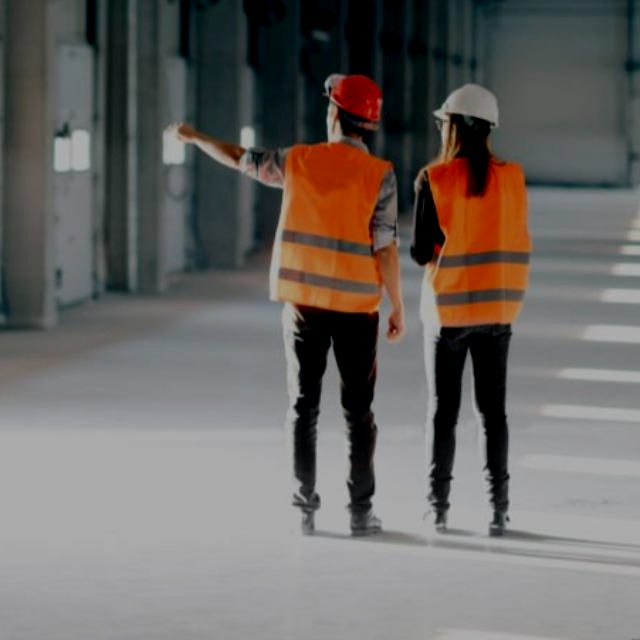Con_Chaleco: (268, 140, 395, 317), (417, 154, 530, 331)
